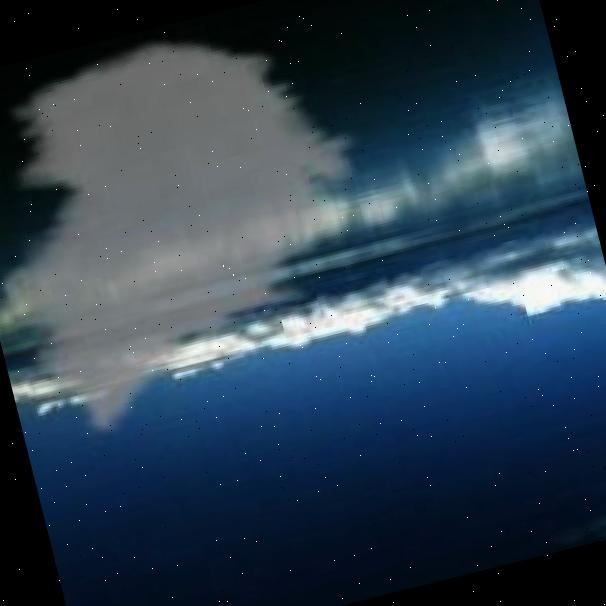smoke: (0, 0, 418, 456)
